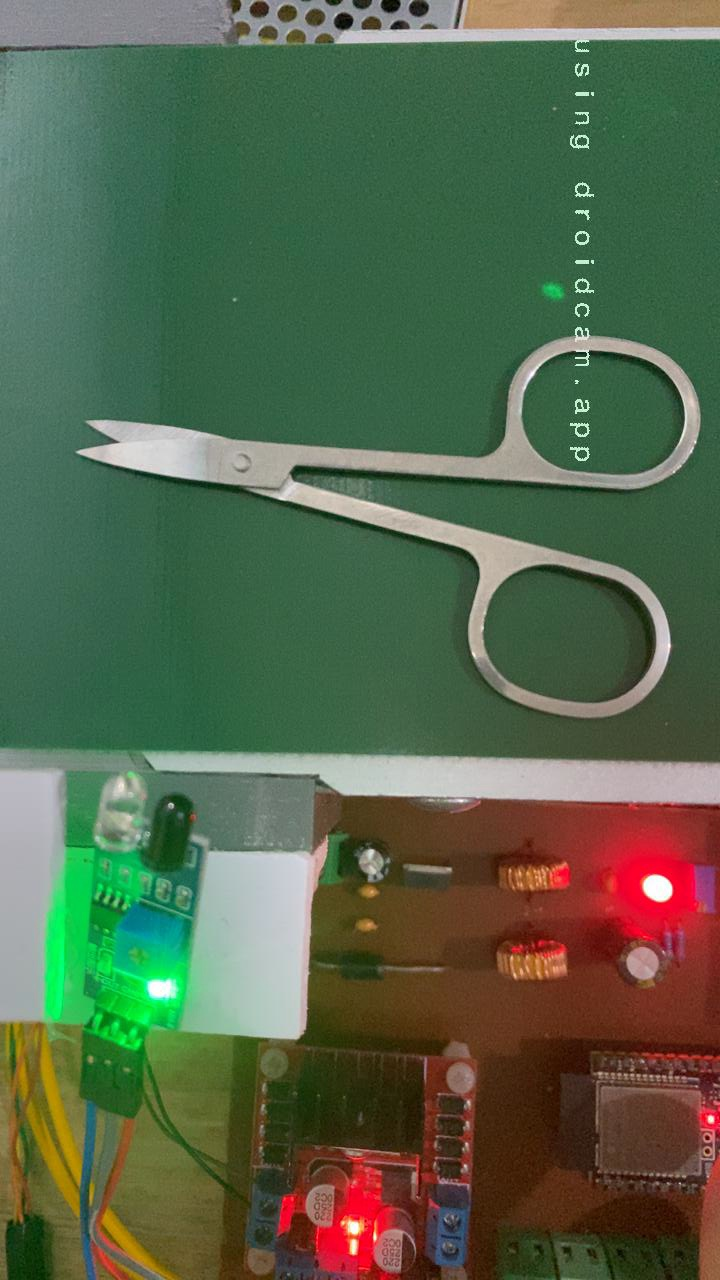scissor: (72, 328, 709, 729)
